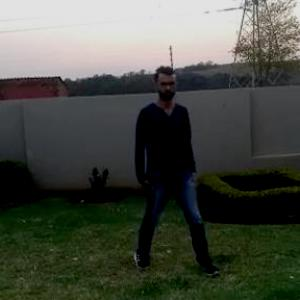follow: (120, 65, 190, 278)
